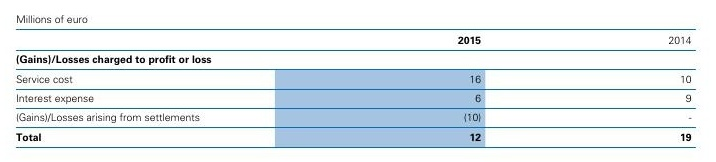table: (0, 0, 716, 162)
